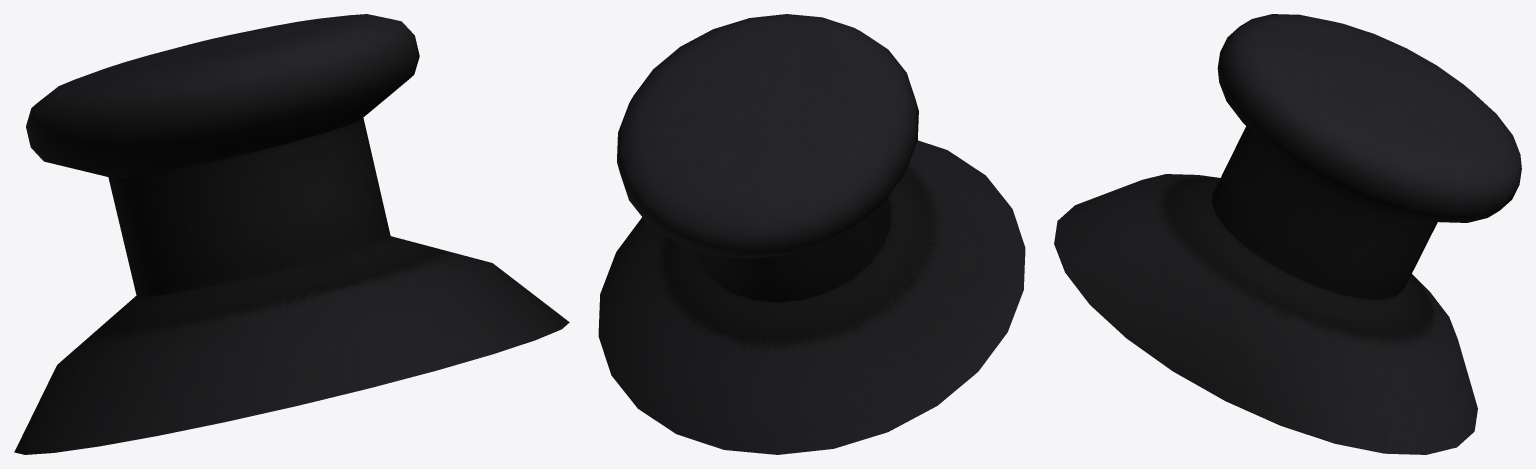
Rendered from thumbstick.obj.
3 renders of one model, left to right at view 1: azimuth 30°, elevation 25°; view 2: azimuth 150°, elevation 25°; view 3: azimuth 270°, elevation 25°, orthographic. The views are drawn at different scales.
Visible parts, largest first — view 1: l_thumbstick; view 2: l_thumbstick; view 3: l_thumbstick.
Boxes of the visible parts, x1,y1,x2,y2 form: l_thumbstick: (14, 14, 569, 454); l_thumbstick: (598, 14, 1025, 454); l_thumbstick: (1054, 14, 1521, 454).
Size of the model in its own units: 0.0192 by 0.0168 by 0.0192.
1 material, 1 textured.
